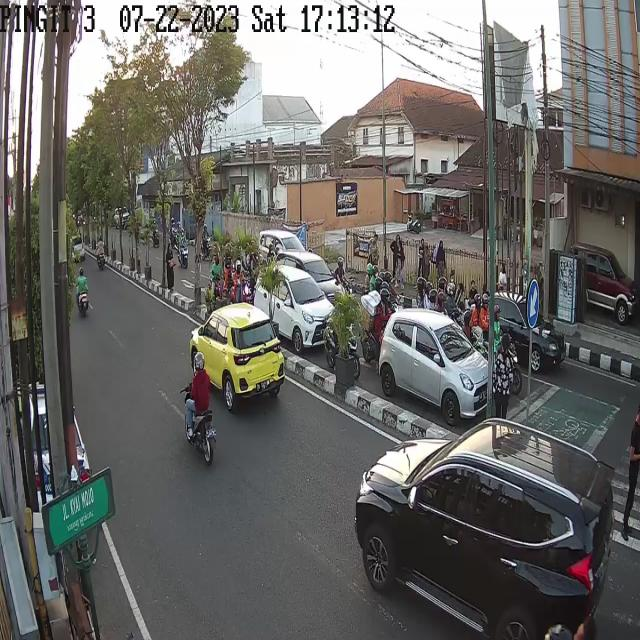car: (350, 417, 630, 640), (377, 309, 496, 430), (191, 304, 286, 412), (248, 260, 337, 355), (473, 287, 565, 372), (257, 231, 342, 299), (575, 243, 637, 324)
motorcycle: (184, 351, 216, 465), (491, 301, 523, 396), (325, 294, 359, 374), (232, 260, 252, 307), (75, 270, 92, 318), (199, 222, 213, 260), (178, 229, 190, 266), (96, 236, 106, 271)
